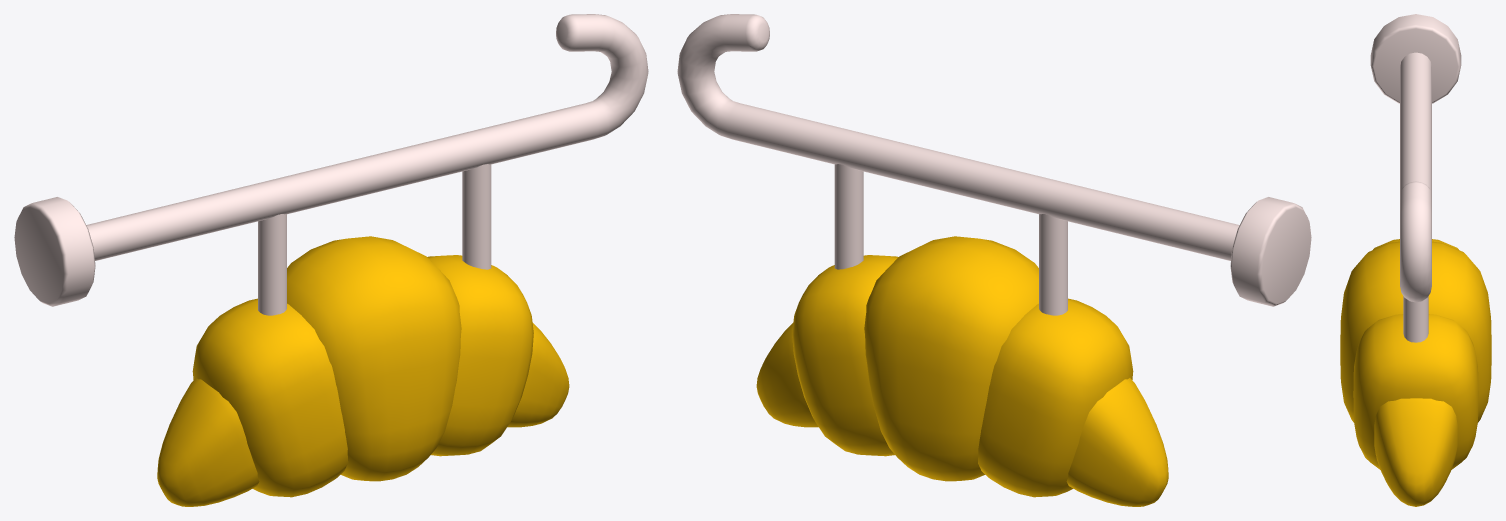
File: Store_3_Sign_Croissant_1.glb
3 renders of one model, left to right at view 1: azimuth 30°, elevation 25°; view 2: azimuth 150°, elevation 25°; view 3: azimuth 270°, elevation 25°, orthographic. The views are drawn at different scales.
Visible parts, largest first — view 1: Store_3_Sign_Croissant_1; view 2: Store_3_Sign_Croissant_1; view 3: Store_3_Sign_Croissant_1.
Part boxes in pixels (x1,y1,x2,y2): Store_3_Sign_Croissant_1: (14, 14, 648, 506); Store_3_Sign_Croissant_1: (677, 14, 1311, 506); Store_3_Sign_Croissant_1: (1340, 14, 1491, 506).
Size of the model in its own units: 2.27 by 1.44 by 0.5744.
1 material, 1 textured.
